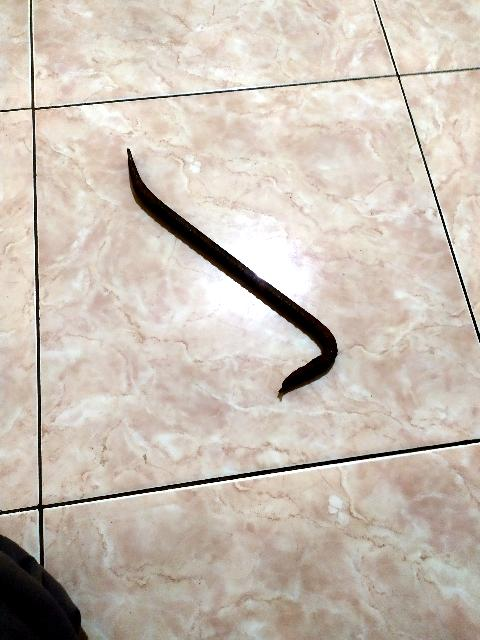crow bar: (109, 136, 350, 408)
